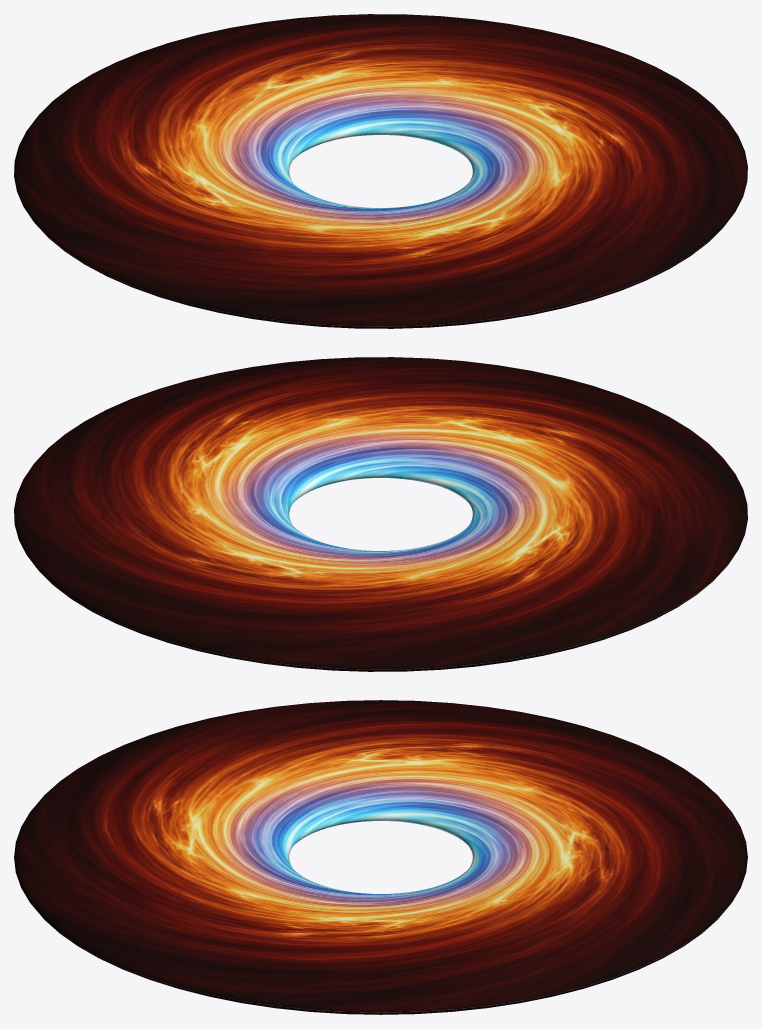
Rendered from AccretionDiskMesh.obj.
3 views of the same model, one above another, from view 1: azimuth 30°, elevation 25°; view 2: azimuth 150°, elevation 25°; view 3: azimuth 270°, elevation 25° (orthographic).
Bounding box in the file's own units: 9.6 × 0.5 × 9.6.
1 material, 1 textured.
